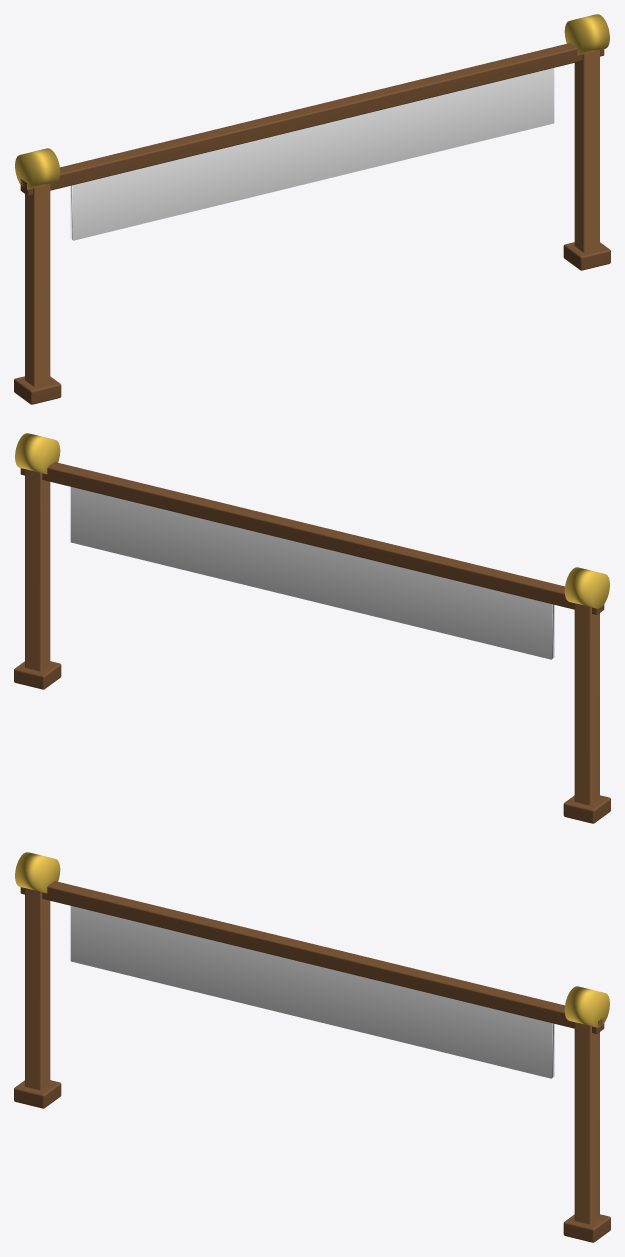
File: gate_mobile.glb
3 views of the same model, one above another, from view 1: azimuth 30°, elevation 25°; view 2: azimuth 150°, elevation 25°; view 3: azimuth 330°, elevation 25° (orthographic).
Parts seen in each view (by area): view 1: Banner, GateFrame; view 2: Banner, GateFrame; view 3: Banner, GateFrame.
Part boxes in pixels (x1,y1,x2,y2): Banner: (70, 68, 554, 240); GateFrame: (14, 14, 610, 404); Banner: (70, 487, 554, 659); GateFrame: (14, 433, 610, 823); Banner: (70, 906, 554, 1078); GateFrame: (14, 852, 610, 1242).
Size of the model in its own units: 16.9 by 6.75 by 0.9.
